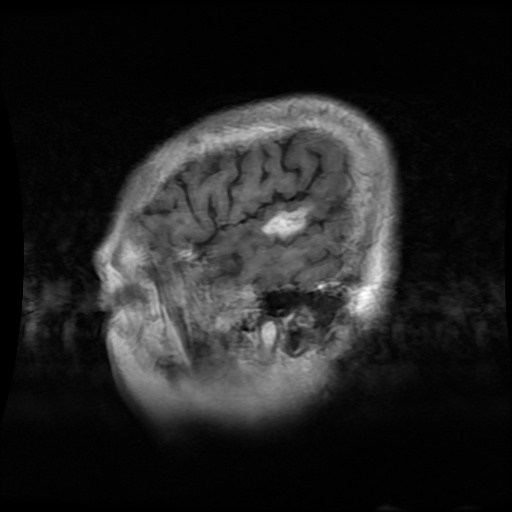glioma: (259, 204, 311, 237)
